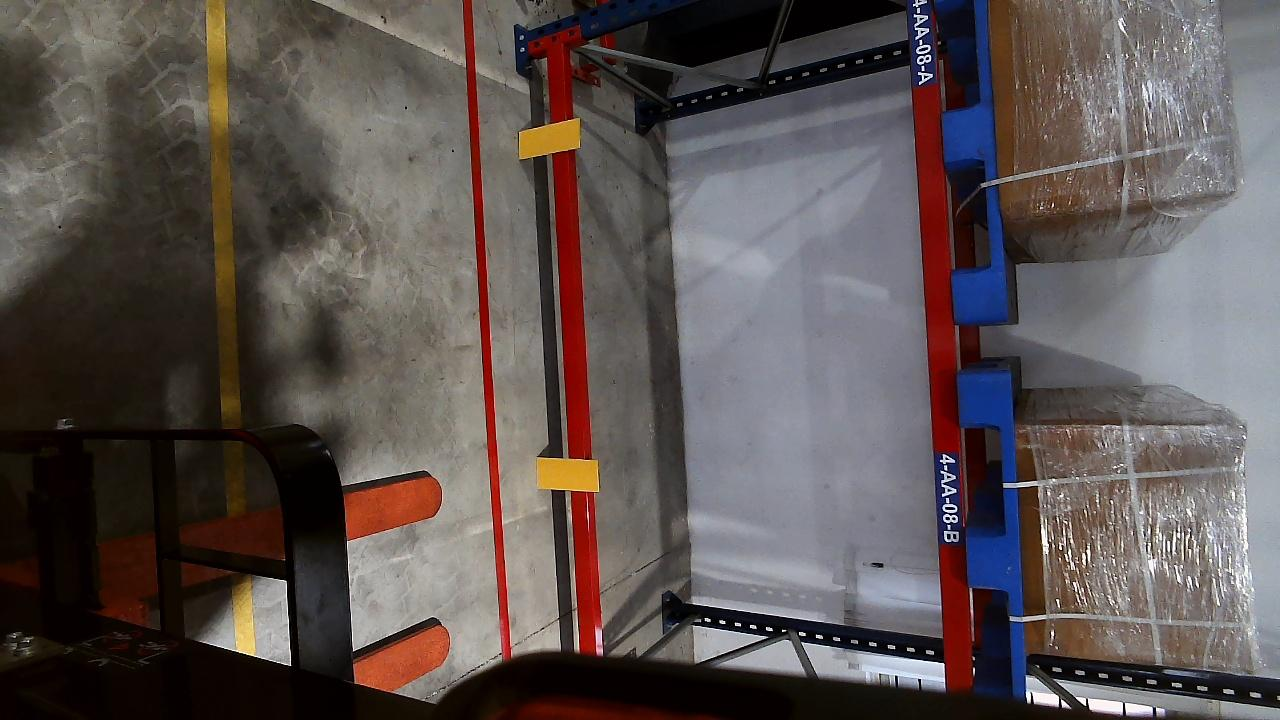h_rack: (902, 0, 978, 687), (546, 57, 594, 662)
orange_strip: (517, 118, 582, 158), (535, 457, 600, 492)
red_line: (462, 0, 507, 637)
small_pallet: (942, 0, 1012, 331), (956, 375, 1029, 680)
yellow_line: (205, 0, 244, 426)
